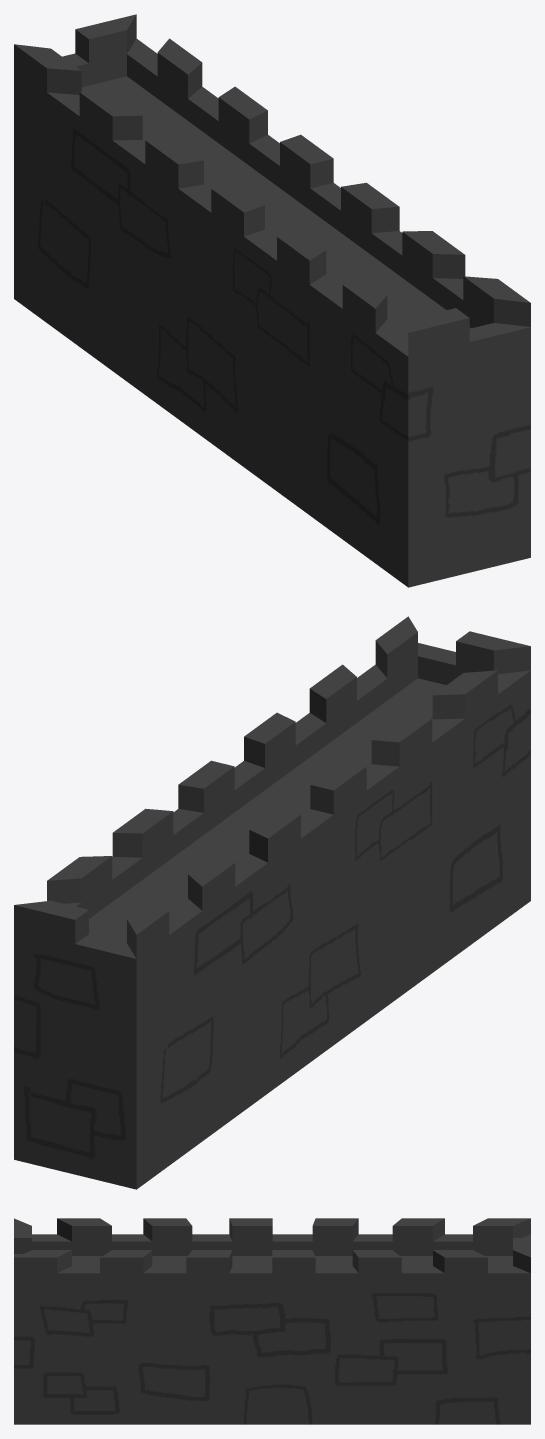
Rendered from kale_duvar_revize.fbx.
The picture shows the model from 3 angles, top to bottom: view 1: azimuth 30°, elevation 25°; view 2: azimuth 150°, elevation 25°; view 3: azimuth 270°, elevation 25°; orthographic projection. The views are drawn at different scales.
Parts seen in each view (by area): view 1: sur; view 2: sur; view 3: sur.
Boxes of the visible parts, x1,y1,x2,y2 form: sur: (14, 14, 530, 587); sur: (14, 616, 530, 1189); sur: (14, 1218, 530, 1424).
Size of the model in its own units: 5.19 by 10.3 by 28.91.
Materials: 1 (1 with a texture image).
